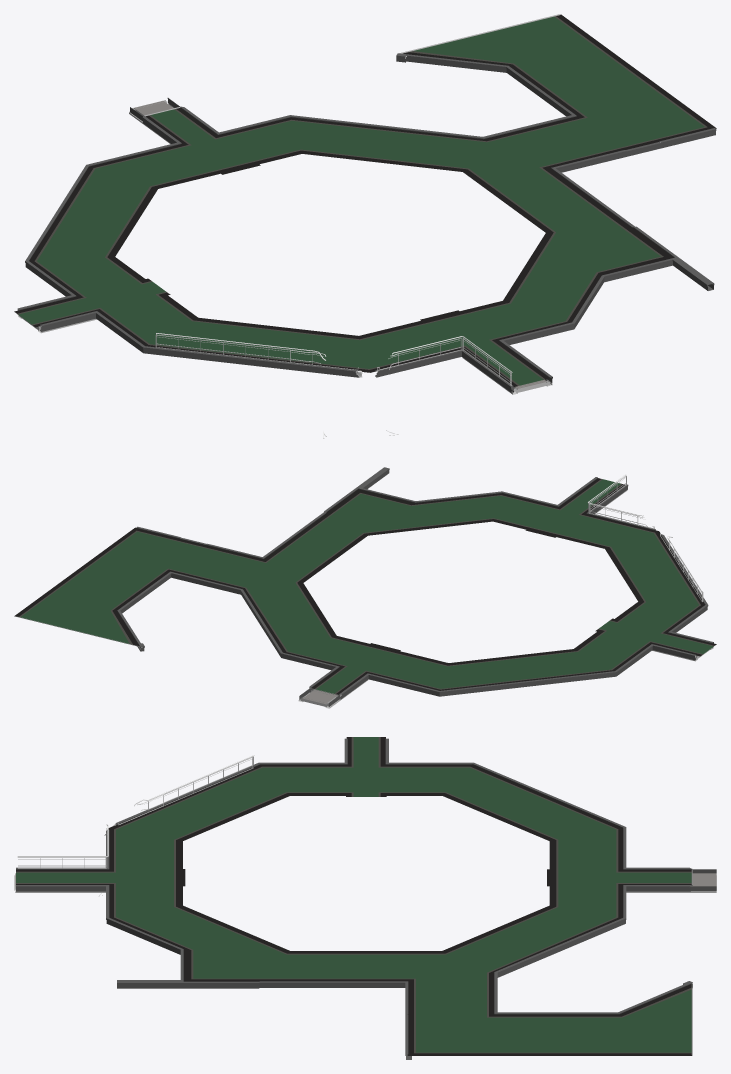
Rendered from SM_H_Building_Tide_MedicalRoom_03_ATLAS.fbx.
3 renders of one model, top to bottom at view 1: azimuth 30°, elevation 25°; view 2: azimuth 150°, elevation 25°; view 3: azimuth 270°, elevation 25°, orthographic. The views are drawn at different scales.
Parts seen in each view (by area): view 1: SM_H_Building_Tide_MedicalRoom_03_ATLAS; view 2: SM_H_Building_Tide_MedicalRoom_03_ATLAS; view 3: SM_H_Building_Tide_MedicalRoom_03_ATLAS.
Boxes of the visible parts, x1,y1,x2,y2 form: SM_H_Building_Tide_MedicalRoom_03_ATLAS: [14, 14, 716, 438]; SM_H_Building_Tide_MedicalRoom_03_ATLAS: [14, 467, 716, 708]; SM_H_Building_Tide_MedicalRoom_03_ATLAS: [14, 737, 716, 1059].
Size of the model in its own units: 6509 by 6065 by 685.
